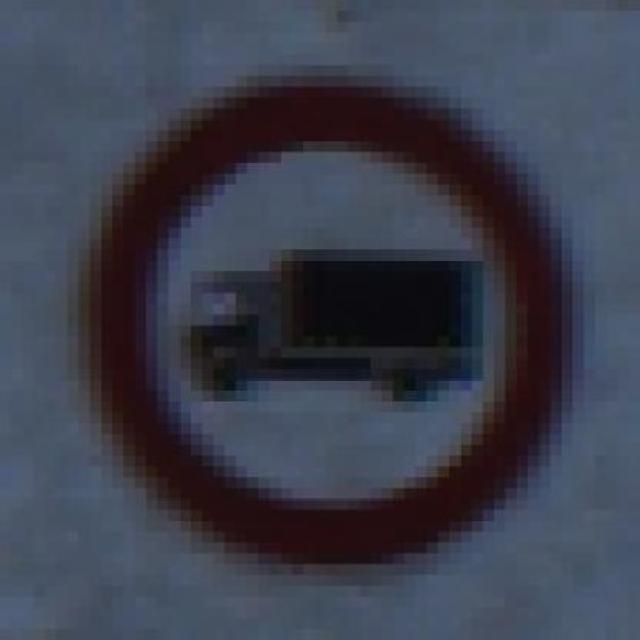Truck traffic is prohibited: (55, 54, 596, 586)
